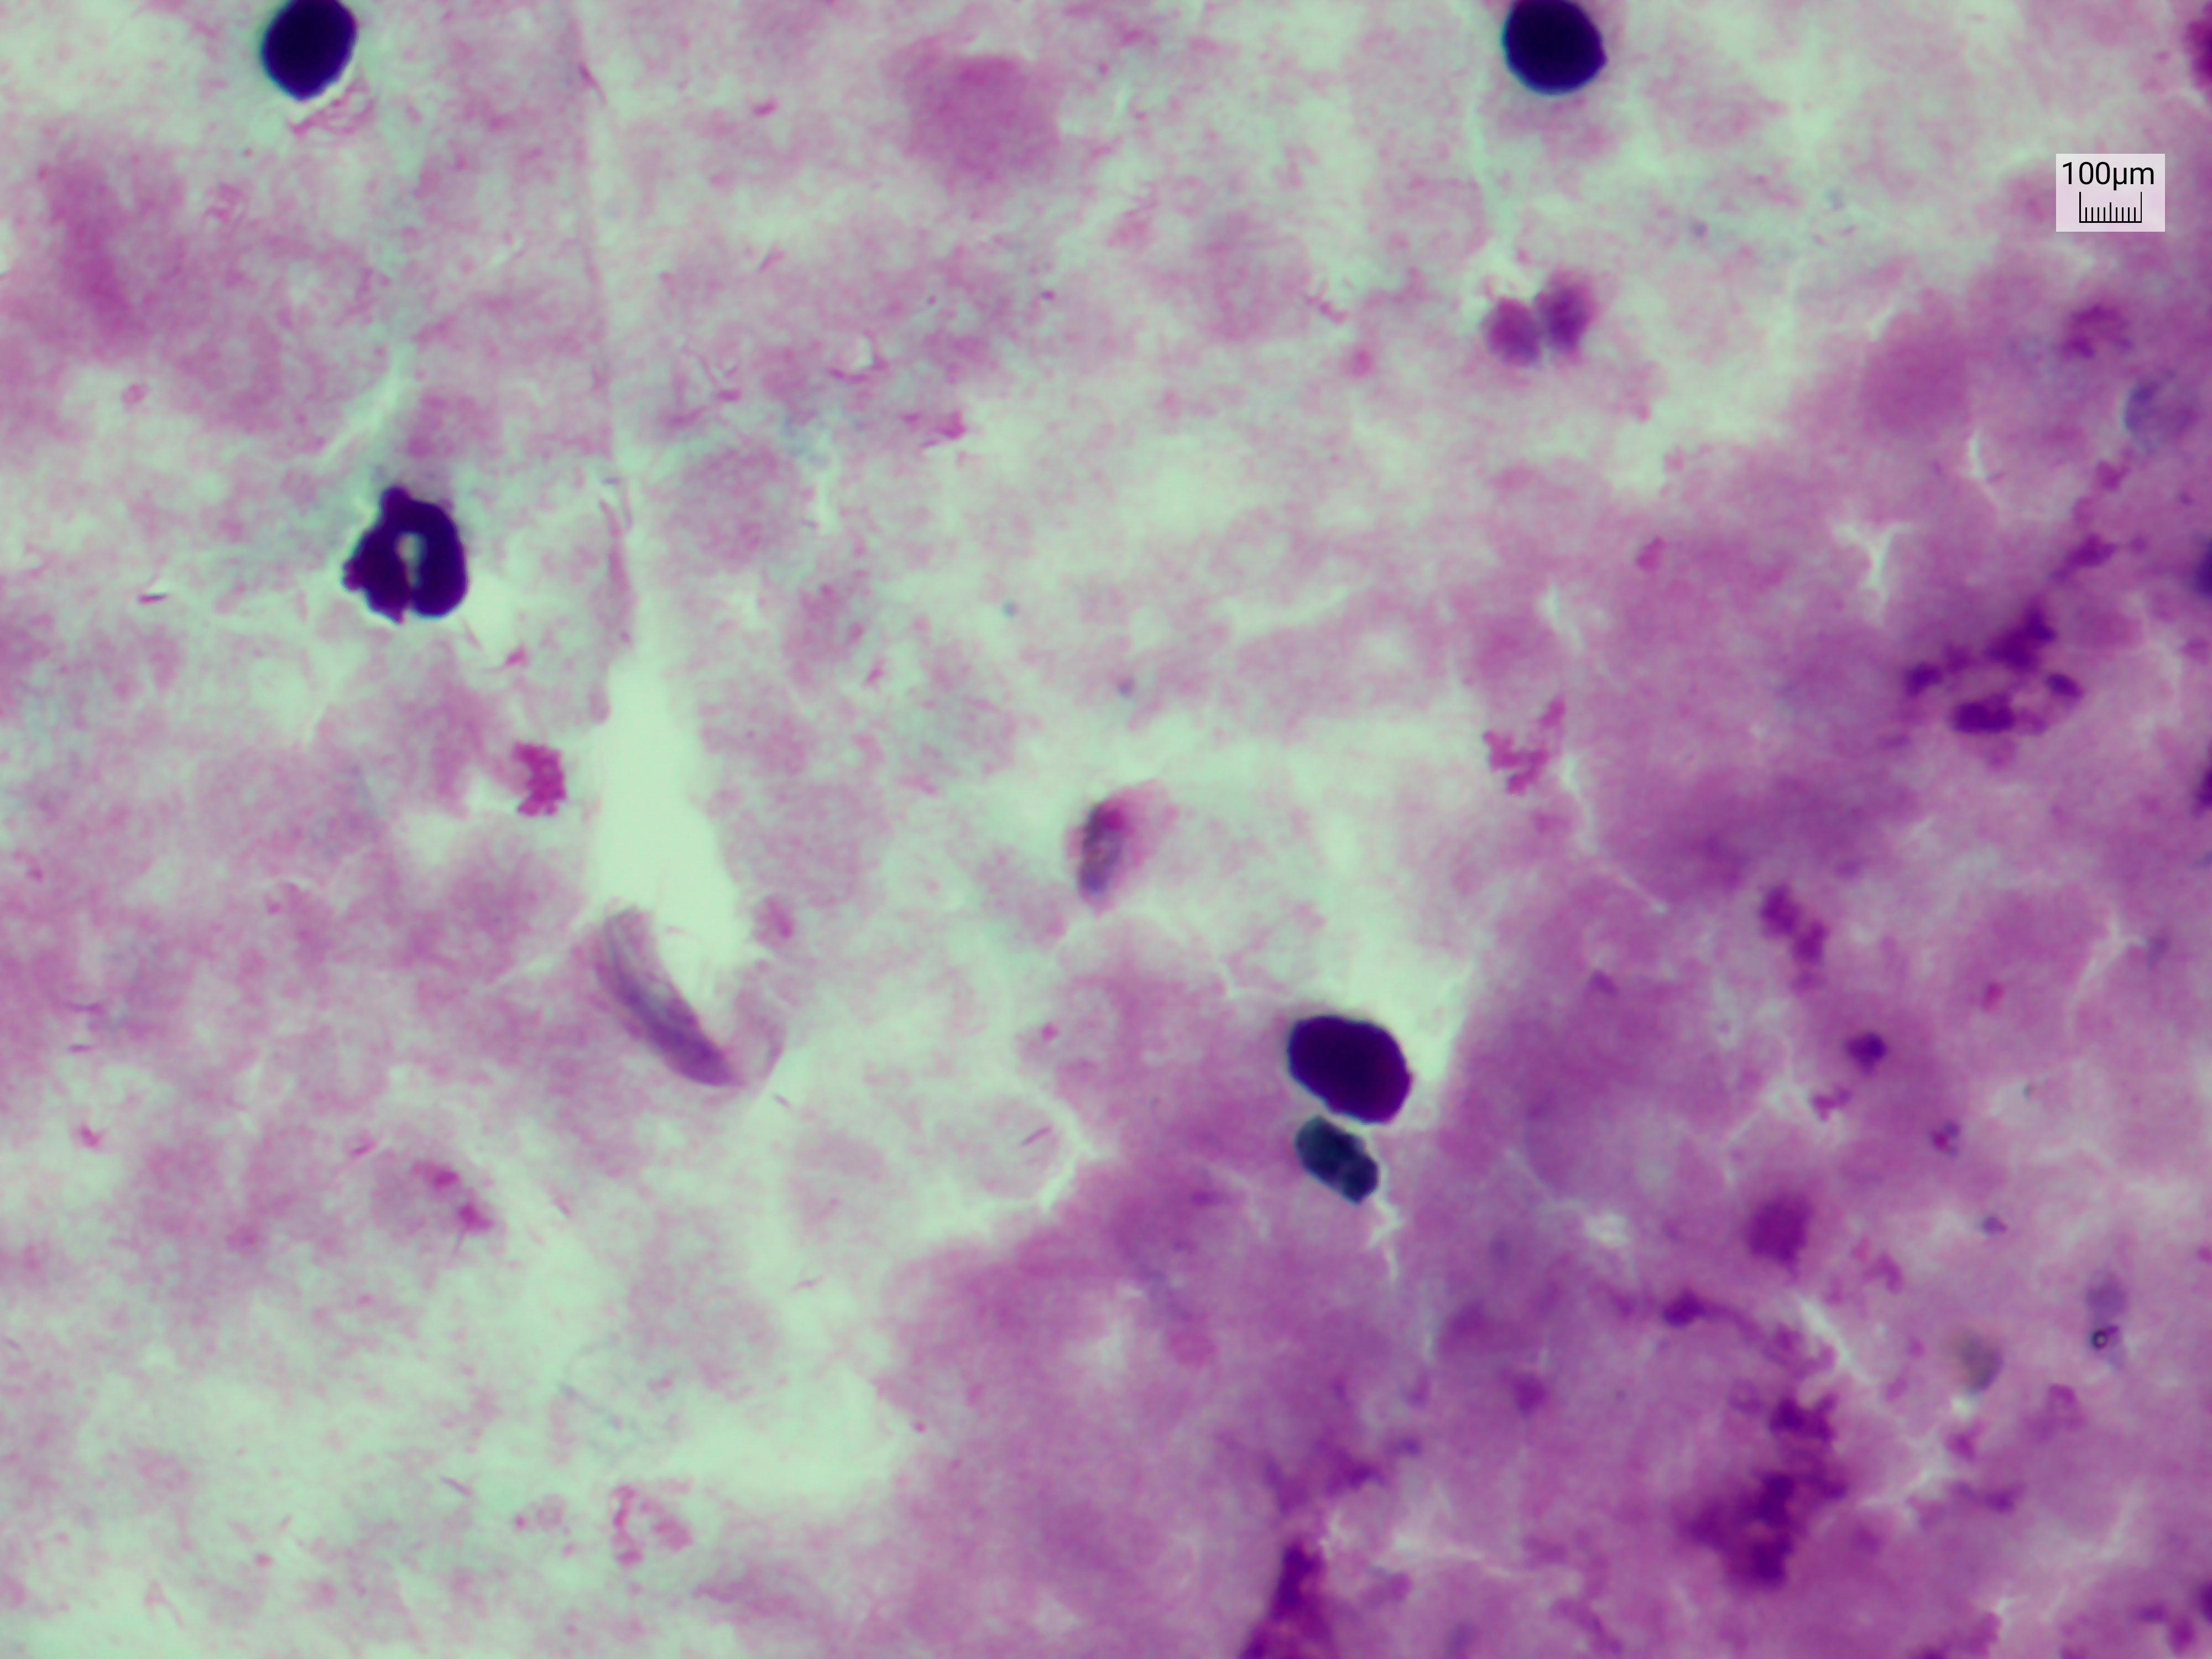p.vivax: (1040, 767, 1195, 938), (1474, 235, 1616, 415), (1827, 979, 1925, 1103)
